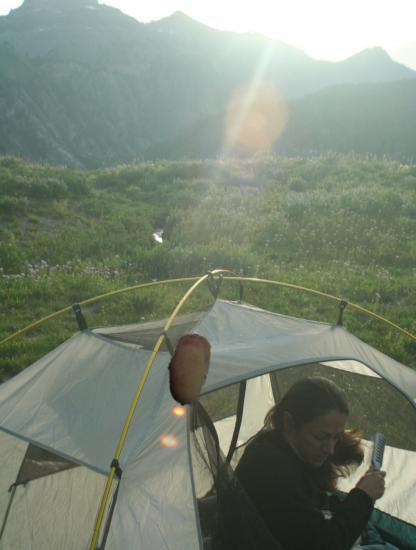Peach: (152, 333, 225, 406)
